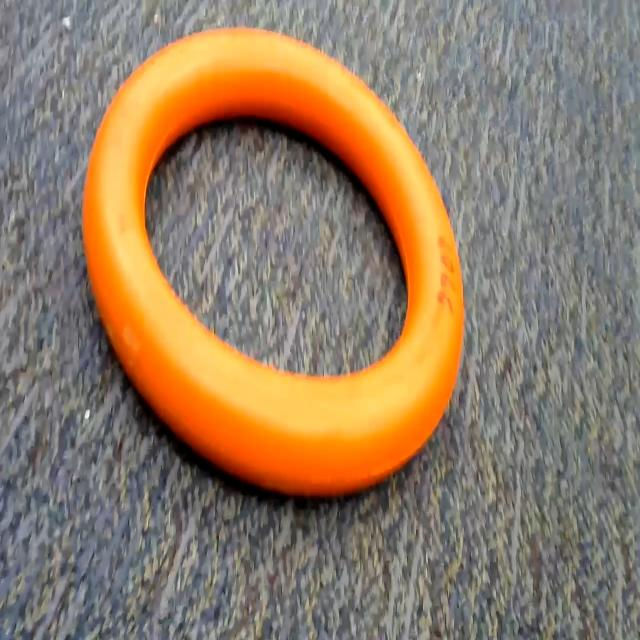note: (78, 0, 480, 519)
